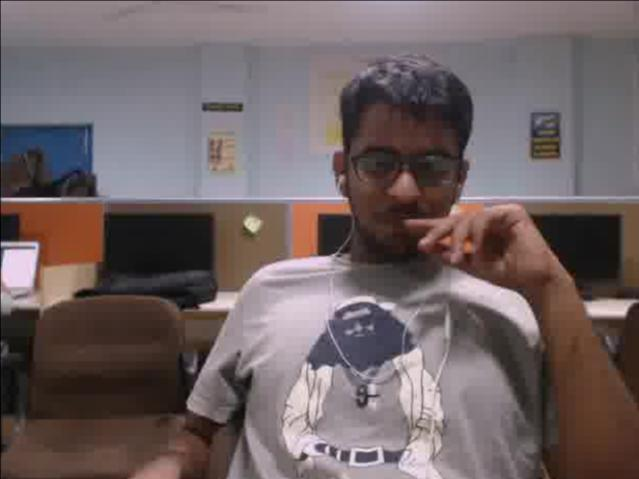bingung: (346, 107, 462, 251)
